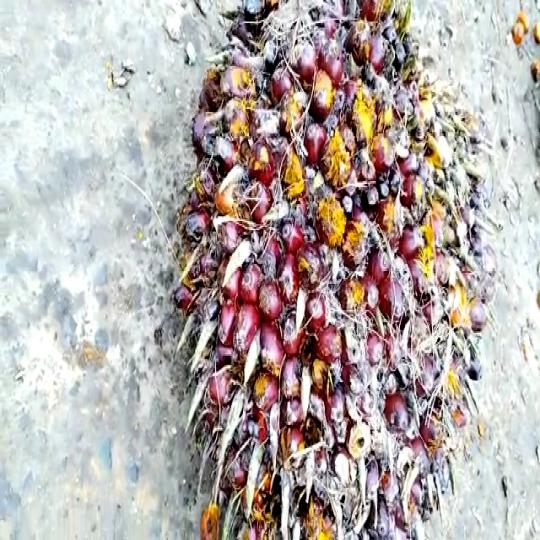masak: (171, 0, 483, 540)
